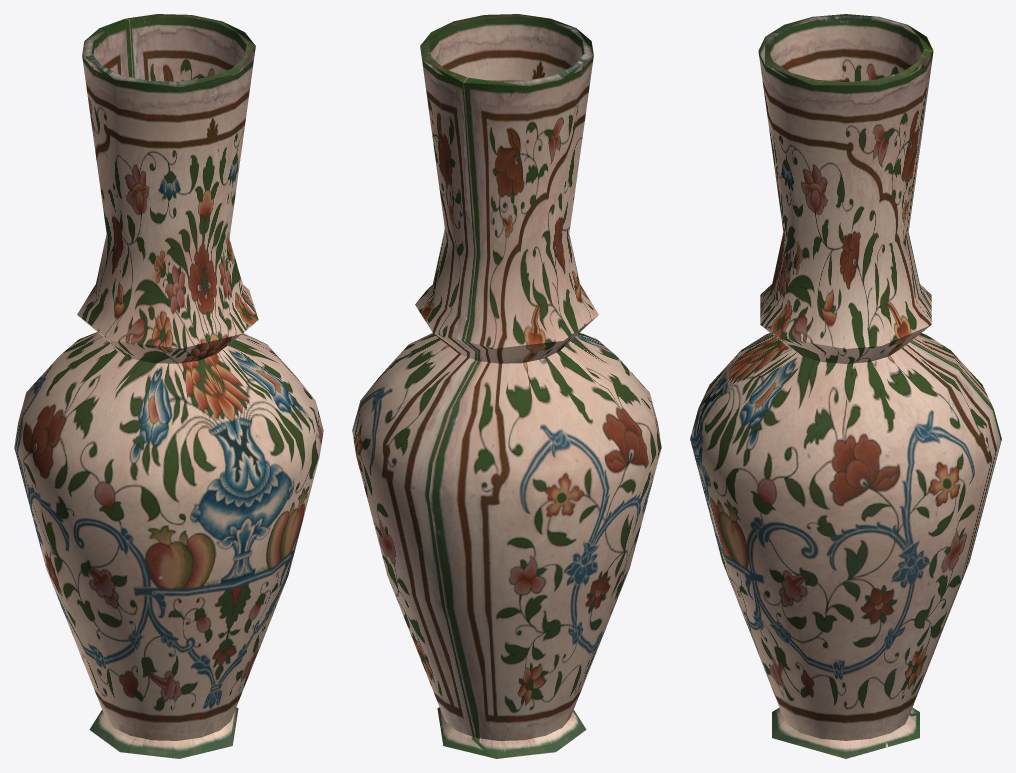
Rendered from Vase.FBX.
3 views of the same model, side by side, from view 1: azimuth 30°, elevation 25°; view 2: azimuth 150°, elevation 25°; view 3: azimuth 270°, elevation 25° (orthographic).
Parts seen in each view (by area): view 1: Line001; view 2: Line001; view 3: Line001.
Boxes of the visible parts, x1,y1,x2,y2 form: Line001: (14, 14, 323, 758); Line001: (352, 14, 661, 758); Line001: (690, 14, 1001, 758).
Size of the model in its own units: 97.86 by 234 by 97.86.
Materials: 1 (1 with a texture image).
